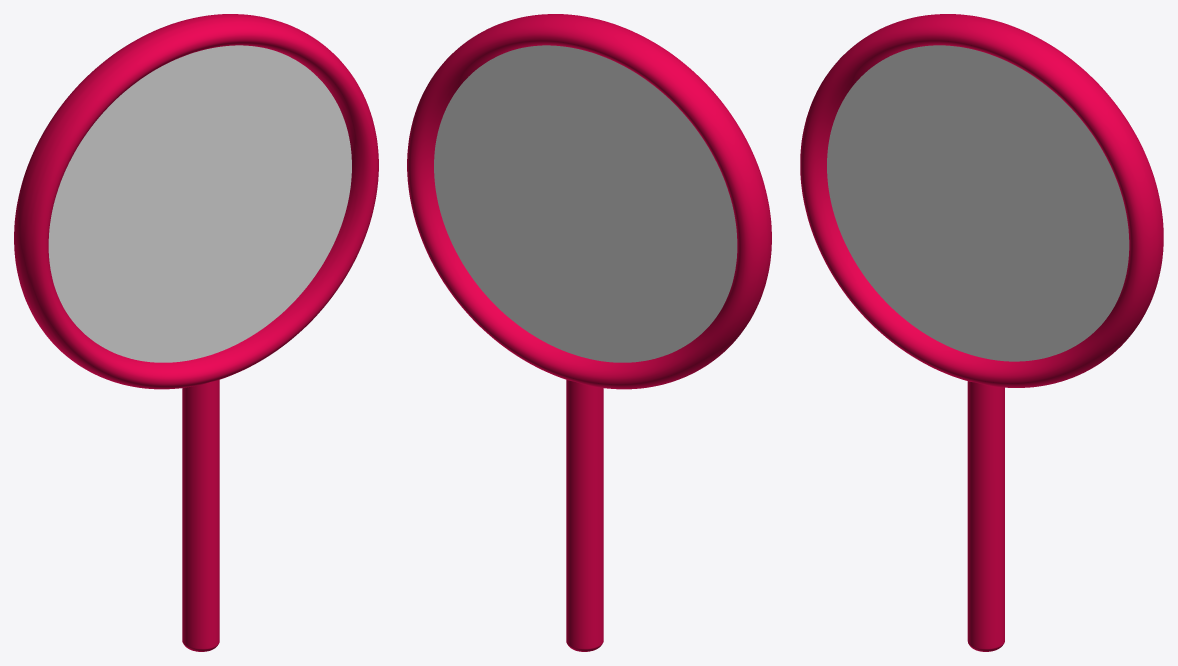
File: loop.glb
The picture shows the model from 3 angles, left to right: view 1: azimuth 30°, elevation 25°; view 2: azimuth 150°, elevation 25°; view 3: azimuth 330°, elevation 25°; orthographic projection.
Parts seen in each view (by area): view 1: loop; view 2: loop; view 3: loop.
Boxes of the visible parts, bbox=[...] form: loop: bbox=[14, 14, 378, 651]; loop: bbox=[407, 14, 771, 651]; loop: bbox=[800, 14, 1163, 651].
Bounding box in the file's own units: 17.95 × 30.28 × 2.07.
